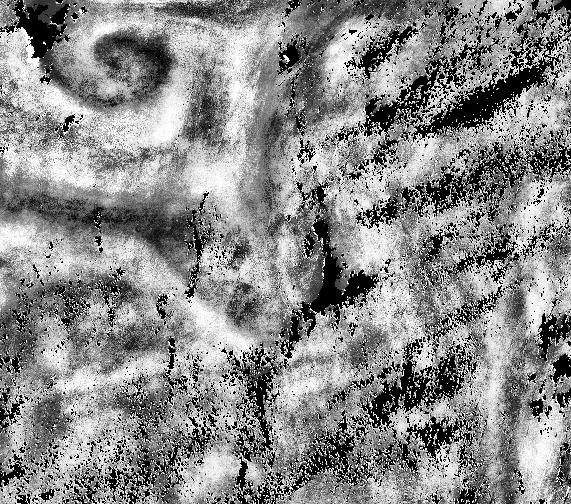CE: (63, 14, 178, 105)
